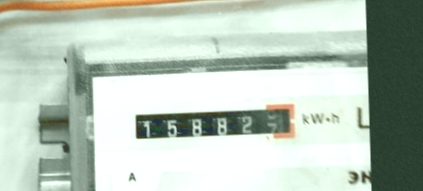1: (140, 118, 150, 136)
2: (239, 113, 252, 133)
5: (162, 117, 177, 136)
7: (263, 119, 276, 131)
8: (213, 113, 227, 135), (189, 115, 202, 136)
screen: (128, 100, 298, 145)
